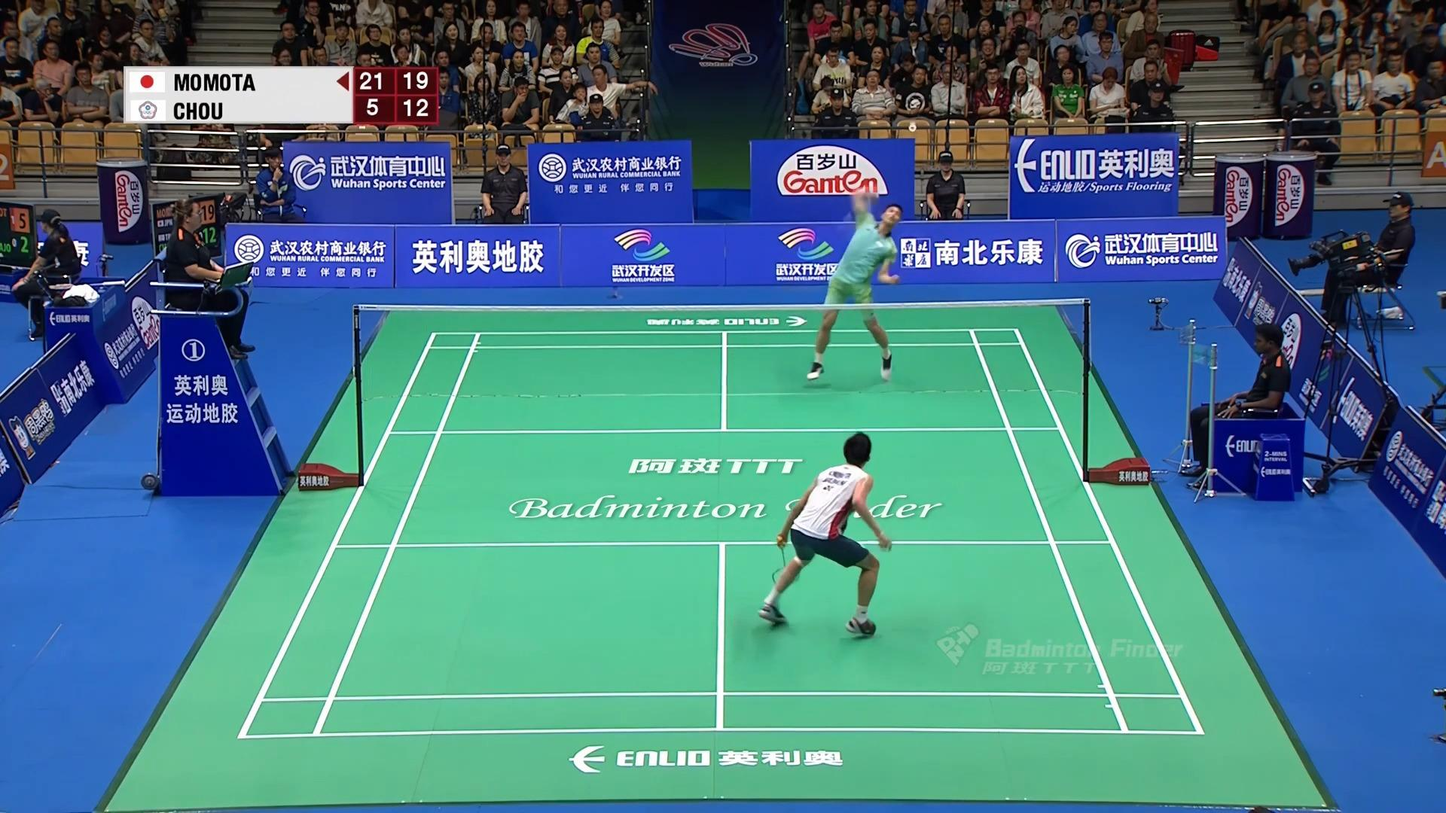player: (760, 433, 891, 635), (808, 187, 904, 383)
